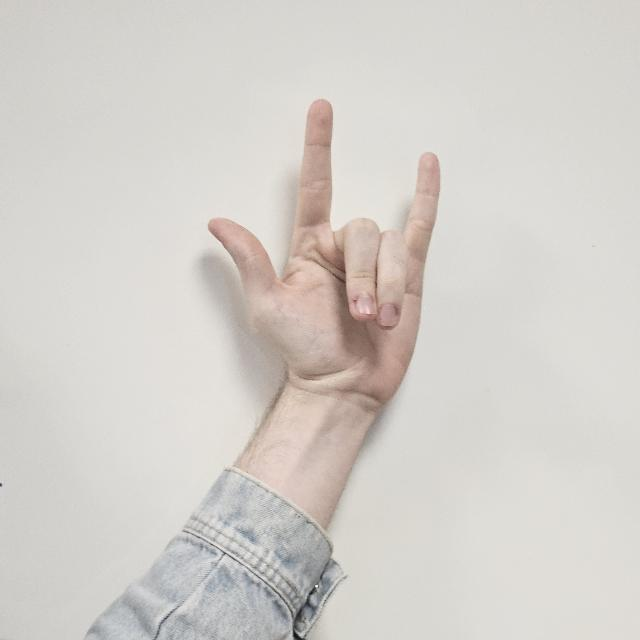Cima: (203, 92, 442, 398)
